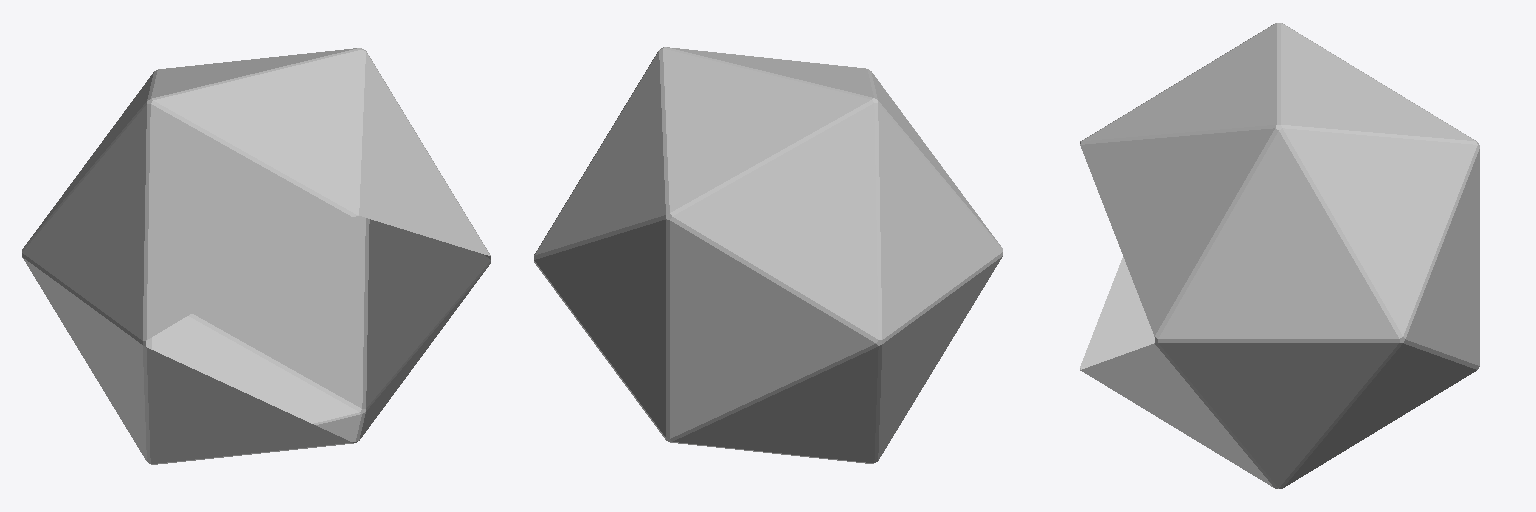
Rendered from oolite_ico_hull.obj.
3 views of the same model, side by side, from view 1: azimuth 30°, elevation 25°; view 2: azimuth 150°, elevation 25°; view 3: azimuth 270°, elevation 25° (orthographic).
Visible parts, largest first — view 1: oolite_ico_hull.obj; view 2: oolite_ico_hull.obj; view 3: oolite_ico_hull.obj.
Part boxes in pixels (bbox=[...]): oolite_ico_hull.obj: bbox=[22, 48, 490, 464]; oolite_ico_hull.obj: bbox=[534, 47, 1002, 463]; oolite_ico_hull.obj: bbox=[1080, 23, 1479, 488].
Bounding box in the file's own units: 1286 × 1286 × 1279.